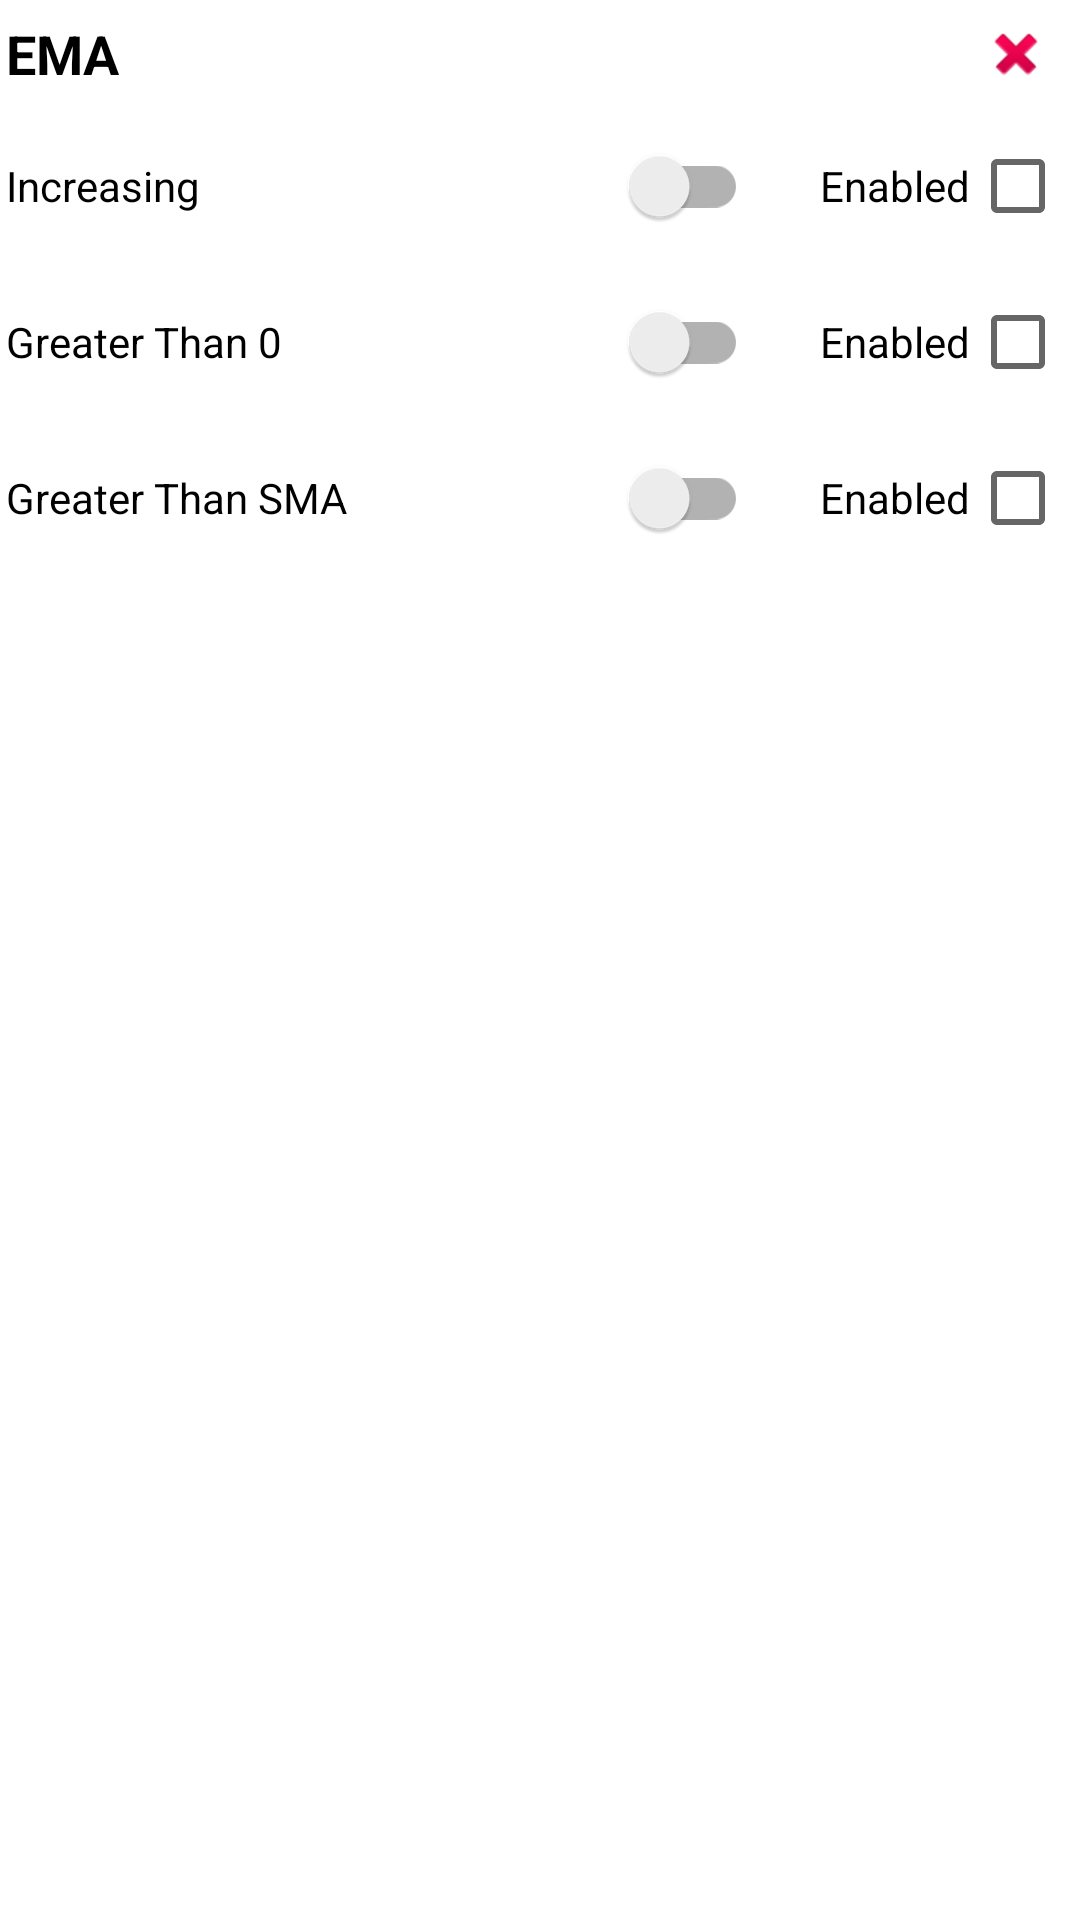

Named icons in this screenshot (1080w x 1920h) and their centers, (x=x, y=y):
delete: (x=1016, y=54)
